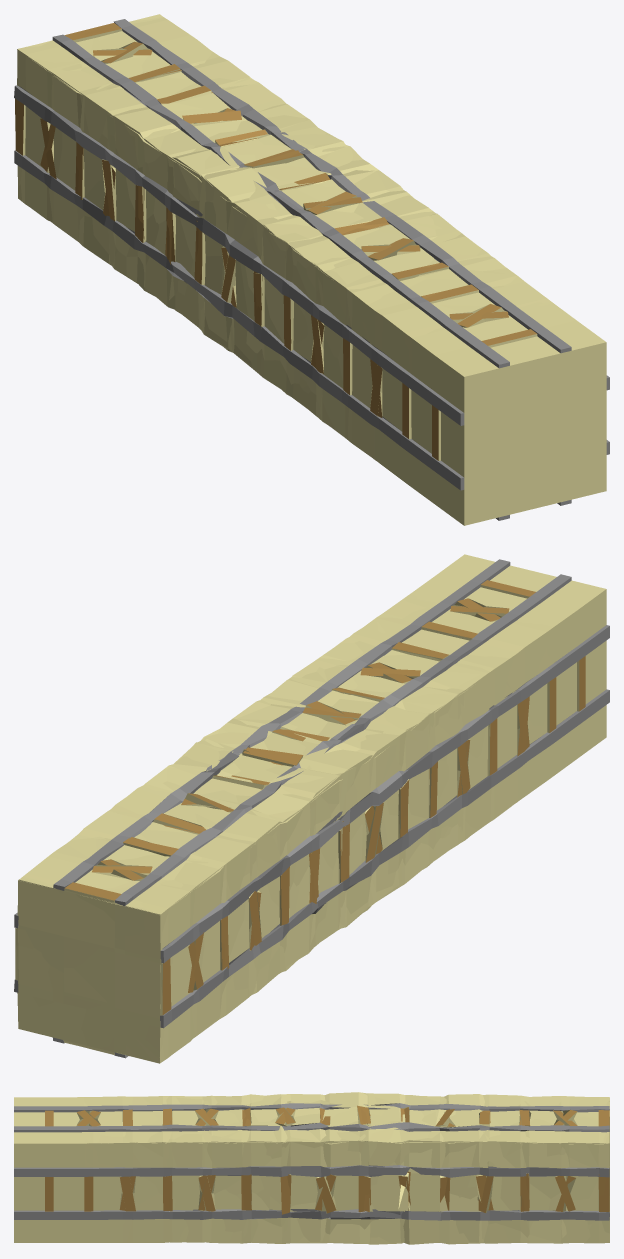
The model's file is col_revize.fbx.
The picture shows the model from 3 angles, top to bottom: view 1: azimuth 30°, elevation 25°; view 2: azimuth 150°, elevation 25°; view 3: azimuth 270°, elevation 25°; orthographic projection. The views are drawn at different scales.
Visible parts, largest first — view 1: Cube.001; view 2: Cube.001; view 3: Cube.001.
Boxes of the visible parts, x1,y1,x2,y2 form: Cube.001: (14, 14, 609, 525); Cube.001: (14, 554, 609, 1063); Cube.001: (14, 1092, 609, 1244).
Size of the model in its own units: 434 by 438 by 2177.
